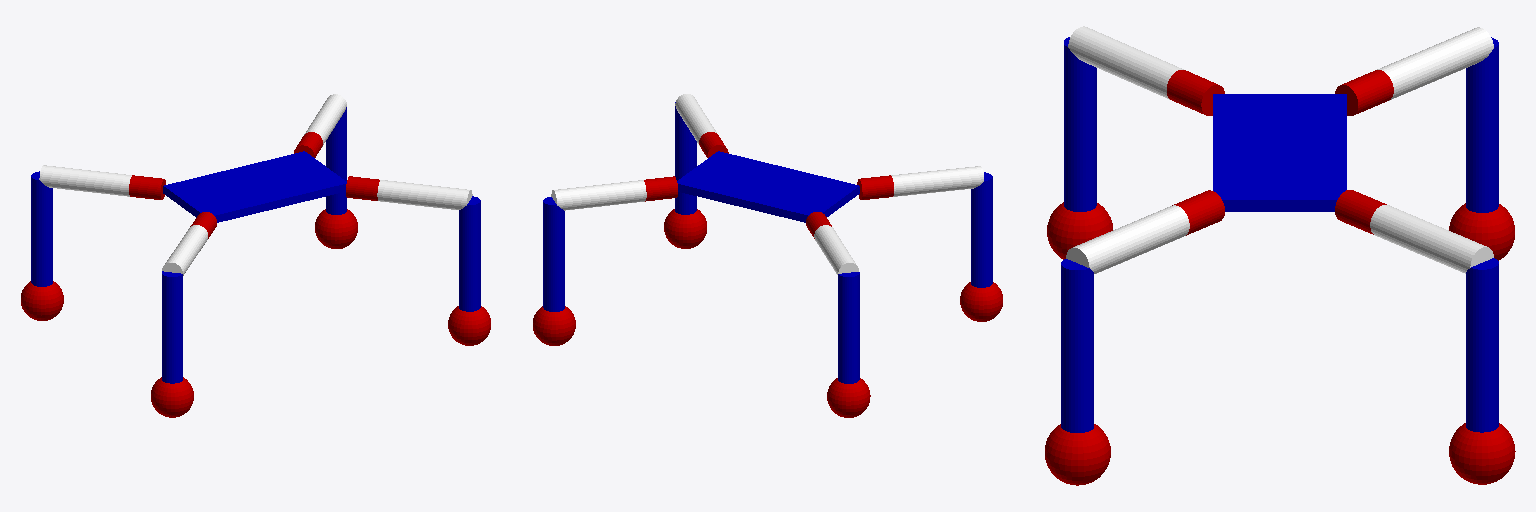
robot.urdf — materials:
<?xml version="1.0"?>
<robot name="materials">

  <material name="blue">
    <color rgba="0 0 0.8 1"/>
  </material>

  <material name="white">
    <color rgba="1 1 1 1"/>
  </material>

  <material name="red">
    <color rgba="0.8 0 0 1"/>
  </material>

  <link name="base_link">
    <collision>
        <geometry>
          <box size="1.5 0.8 0.08"/>
        </geometry>
    </collision>
    <inertial>
      <origin xyz="0 0 0"/>
      <mass value="100.843" />
      <inertia ixx="0.002480" ixy="9.381E-19" ixz="-3.172E-18"
                              iyy="1.060E-02" iyz="1002.754E-09"
                                              izz="1.243E-02" />
    </inertial>
    <visual>
      <geometry>
        <box size="1.5 0.8 0.08"/>
      </geometry>
      <material name="blue"/>
    </visual>
  </link>


#FRONT RIGHT
  <link name="coxa_FR">
 
    <visual>
      <geometry>
        <cylinder length="0.3" radius="0.1"/>
      </geometry>
      <origin rpy="1.57 0 0" xyz="0.0 -0.15 0"/>
      <material name="red"/>
    </visual>
  </link>

  <link name="femur_FR">
    
    <visual>
      <geometry>
         <cylinder length="0.85" radius="0.1"/>
      </geometry>
      <origin xyz="0 0 -0.425"/>
      <material name="white"/>
    </visual>
  </link>

  <link name="tibia_FR">

    <visual>
      <geometry>
       <cylinder length="1.25" radius="0.1"/>
      </geometry>
      <origin xyz="0 0 -0.625"/>
      <material name="blue"/>
    </visual>
  </link>

  <link name="foot_FR">
    <collision>
      <geometry>
        <sphere radius="0.2"/>
      </geometry>
    </collision>
   <mass value="200.843" />
    <visual>
      <geometry>
        <sphere radius="0.2"/>
      </geometry>
      <material name="red"/>
    </visual>
  </link>
  
  <joint name="coxaF_FR" type="revolute">
    <axis xyz="0 0 1"/>
    <limit effort="1000.0" velocity="0.5"/>
    <parent link="base_link"/>
    <child link="coxa_FR"/>
    <origin rpy="0 0 0.785398" xyz="0.75 -0.4 0"/>
  </joint>

  <joint name="femurF_FR" type="revolute">
    <axis xyz="1 0 0"/>
    <limit effort="1000.0" velocity="0.5"/>
    <parent link="coxa_FR"/>
    <child link="femur_FR"/>
    <origin rpy="4.71239 0 0" xyz="0 -0.3 0"/>
  </joint>

  <joint name="tibiaF_FR" type="revolute">
    <axis xyz="1 0 0"/>
    <limit effort="1000.0" velocity="0.5"/>
    <parent link="femur_FR"/>
    <child link="tibia_FR"/>
    <origin rpy="1.5708 0 0" xyz="0 0 -0.85"/>
  </joint>

  <joint name="footF_FR" type="fixed">
    <parent link="tibia_FR"/>
    <child link="foot_FR"/>
    <origin xyz="0 0 -1.25"/>
  </joint>




#FRONT LEFT



  <link name="coxa_FL">

    <visual>
      <geometry>
        <cylinder length="0.3" radius="0.1"/>
      </geometry>
      <origin rpy="1.57 0 0" xyz="0 -0.15 0"/>
      <material name="red"/>
    </visual>
  </link>

  <link name="femur_FL">
  
    <visual>
      <geometry>
        <cylinder length="0.85" radius="0.1"/>
      </geometry>
      <origin xyz="0 0 -0.425"/>
      <material name="white"/>
    </visual>
  </link>

  <link name="tibia_FL">

    <visual>
      <geometry>
        <cylinder length="1.25" radius="0.1"/>
      </geometry>
      <origin xyz="0 0 -0.625"/>
      <material name="blue"/>
    </visual>
  </link>

  <link name="foot_FL">
    <collision>
      <geometry>
        <sphere radius="0.2"/>
      </geometry>
    </collision>
  <mass value="200.843" />
    <visual>
      <geometry>
        <sphere radius="0.2"/>
      </geometry>
      <material name="red"/>
    </visual>
  </link>
  
  <joint name="coxaF_FL" type="revolute">
    <axis xyz="0 0 1"/>
    <limit effort="1000.0" velocity="0.5"/>
    <parent link="base_link"/>
    <child link="coxa_FL"/>
    <origin rpy="0 0 2.35619" xyz="0.74 0.4 0"/>
  </joint>

  <joint name="femurF_FL" type="revolute">
    <axis xyz="1 0 0"/>
    <limit effort="1000.0" velocity="0.5"/>
    <parent link="coxa_FL"/>
    <child link="femur_FL"/>
    <origin rpy="4.71239 0 0" xyz="0 -0.3 0"/>
  </joint>

  <joint name="tibiaF_FL" type="revolute">
    <axis xyz="1 0 0"/>
    <limit effort="1000.0" velocity="0.5"/>
    <parent link="femur_FL"/>
    <child link="tibia_FL"/>
    <origin rpy="1.5708 0 0" xyz="0 0 -0.85"/>
  </joint>

  <joint name="footF_FL" type="fixed">
    <parent link="tibia_FL"/>
    <child link="foot_FL"/>
    <origin xyz="0 0 -1.25"/>
  </joint>







#BACK RIGHT



<link name="coxa_BR">
 
    <visual>
      <geometry>
        <cylinder length="0.3" radius="0.1"/>
      </geometry>
      <origin rpy="1.57 0 0" xyz="0.0 -0.15 0"/>
      <material name="red"/>
    </visual>
  </link>

  <link name="femur_BR">
 
    <visual>
      <geometry>
         <cylinder length="0.85" radius="0.1"/>
      </geometry>
      <origin xyz="0 0 -0.425"/>
      <material name="white"/>
    </visual>
  </link>

  <link name="tibia_BR">

    <visual>
      <geometry>
       <cylinder length="1.25" radius="0.1"/>
      </geometry>
      <origin xyz="0 0 -0.625"/>
      <material name="blue"/>
    </visual>
  </link>

  <link name="foot_BR">
    <collision>
      <geometry>
        <sphere radius="0.2"/>
      </geometry>
    </collision>
   <mass value="200.843" />
    <visual>
      <geometry>
        <sphere radius="0.2"/>
      </geometry>
      <material name="red"/>
    </visual>
  </link>
  
  <joint name="coxaF_BR" type="revolute">
    <axis xyz="0 0 1"/>
    <limit effort="1000.0" velocity="0.5"/>
    <parent link="base_link"/>
    <child link="coxa_BR"/>
    <origin rpy="0 0 3.92699" xyz="-0.75 0.4 0"/>
  </joint>

  <joint name="femurF_BR" type="revolute">
    <axis xyz="1 0 0"/>
    <limit effort="1000.0" velocity="0.5"/>
    <parent link="coxa_BR"/>
    <child link="femur_BR"/>
    <origin rpy="4.71239 0 0" xyz="0 -0.3 0"/>
  </joint>

  <joint name="tibiaF_BR" type="revolute">
    <axis xyz="1 0 0"/>
    <limit effort="1000.0" velocity="0.5"/>
    <parent link="femur_BR"/>
    <child link="tibia_BR"/>
    <origin rpy="1.5708 0 0" xyz="0 0 -0.85"/>
  </joint>

  <joint name="footF_BR" type="fixed">
    <parent link="tibia_BR"/>
    <child link="foot_BR"/>
    <origin xyz="0 0 -1.25"/>
  </joint>




#BACK LEFT



<link name="coxa_BL">
 
    <visual>
      <geometry>
        <cylinder length="0.3" radius="0.1"/>
      </geometry>
      <origin rpy="1.57 0 0" xyz="0.0 -0.15 0"/>
      <material name="red"/>
    </visual>
  </link>

  <link name="femur_BL">
  
    <visual>
      <geometry>
         <cylinder length="0.85" radius="0.1"/>
      </geometry>
      <origin xyz="0 0 -0.425"/>
      <material name="white"/>
    </visual>
  </link>

  <link name="tibia_BL">
  
    <visual>
      <geometry>
       <cylinder length="1.25" radius="0.1"/>
      </geometry>
      <origin xyz="0 0 -0.625"/>
      <material name="blue"/>
    </visual>
  </link>

  <link name="foot_BL">
    <collision>
      <geometry>
        <sphere radius="0.2"/>
      </geometry>
    </collision>
   <mass value="200.843" />
    <visual>
      <geometry>
        <sphere radius="0.2"/>
      </geometry>
      <material name="red"/>
    </visual>
  </link>
  
  <joint name="coxaF_BL" type="revolute">
    <axis xyz="0 0 1"/>
    <limit effort="1000.0" velocity="0.5"/>
    <parent link="base_link"/>
    <child link="coxa_BL"/>
    <origin rpy="0 0 5.48033" xyz="-0.75 -0.4 0"/>
  </joint>

  <joint name="femurF_BL" type="revolute">
    <axis xyz="1 0 0"/>
    <limit effort="1000.0" velocity="0.5"/>
    <parent link="coxa_BL"/>
    <child link="femur_BL"/>
    <origin rpy="4.71239 0 0" xyz="0 -0.3 0"/>
  </joint>

  <joint name="tibiaF_BL" type="revolute">
    <axis xyz="1 0 0"/>
    <limit effort="1000.0" velocity="0.5"/>
    <parent link="femur_BL"/>
    <child link="tibia_BL"/>
    <origin rpy="1.5708 0 0" xyz="0 0 -0.85"/>
  </joint>

  <joint name="footF_BL" type="fixed">
    <parent link="tibia_BL"/>
    <child link="foot_BL"/>
    <origin xyz="0 0 -1.25"/>
  </joint>

</robot>

--- Render facts (derived) ---
Views: 3 orthographic renders of the robot side by side, from view 1: azimuth 30°, elevation 25°; view 2: azimuth 150°, elevation 25°; view 3: azimuth 270°, elevation 25°.
Model materials with 17 links and 16 joints (12 revolute, 4 fixed), rooted at base_link, posed all joints at 0.
Visible links, largest first — view 1: base_link, tibia_FR, tibia_BR, tibia_BL, femur_FR, femur_BR, tibia_FL, foot_BL, foot_FR, foot_FL, foot_BR, femur_BL (+3 smaller); view 2: base_link, tibia_BR, tibia_FL, tibia_BL, femur_FL, femur_BL, tibia_FR, foot_FR, foot_BR, foot_BL, foot_FL, femur_BR (+3 smaller); view 3: base_link, tibia_FL, tibia_FR, tibia_BR, tibia_BL, femur_FR, femur_FL, femur_BR, femur_BL, foot_FL, foot_FR, foot_BL (+5 smaller).
Boxes of the visible links, left/top/right/bottom form: base_link: left=163, top=151, right=346, bottom=222; tibia_FR: left=459, top=196, right=480, bottom=311; tibia_BR: left=31, top=171, right=52, bottom=286; tibia_BL: left=162, top=271, right=182, bottom=383; femur_FR: left=377, top=180, right=472, bottom=209; femur_BR: left=39, top=165, right=131, bottom=196; tibia_FL: left=326, top=107, right=346, bottom=214; foot_BL: left=151, top=377, right=193, bottom=417; foot_FR: left=448, top=306, right=490, bottom=345; foot_FL: left=315, top=209, right=357, bottom=248; foot_BR: left=21, top=281, right=63, bottom=320; femur_BL: left=162, top=225, right=207, bottom=275; base_link: left=677, top=151, right=859, bottom=222; tibia_BR: left=838, top=272, right=859, bottom=383; tibia_FL: left=543, top=197, right=564, bottom=311; tibia_BL: left=971, top=172, right=992, bottom=287; femur_FL: left=551, top=180, right=646, bottom=210; femur_BL: left=891, top=166, right=983, bottom=196; tibia_FR: left=675, top=102, right=696, bottom=214; foot_FR: left=664, top=209, right=706, bottom=248; foot_BR: left=827, top=378, right=870, bottom=417; foot_BL: left=960, top=282, right=1002, bottom=321; foot_FL: left=533, top=306, right=575, bottom=345; femur_BR: left=814, top=225, right=858, bottom=274; base_link: left=1213, top=94, right=1346, bottom=211; tibia_FL: left=1466, top=258, right=1498, bottom=432; tibia_FR: left=1061, top=259, right=1093, bottom=432; tibia_BR: left=1466, top=37, right=1498, bottom=212; tibia_BL: left=1064, top=37, right=1096, bottom=211; femur_FR: left=1066, top=205, right=1189, bottom=273; femur_FL: left=1370, top=205, right=1493, bottom=273; femur_BR: left=1377, top=27, right=1493, bottom=100; femur_BL: left=1068, top=26, right=1183, bottom=99; foot_FL: left=1449, top=423, right=1515, bottom=484; foot_FR: left=1045, top=424, right=1110, bottom=485; foot_BL: left=1047, top=202, right=1112, bottom=259.
Size in the robot's own frame: 3.54 by 2.83 by 1.55 metres.
Geometry: primitives only (box / cylinder / sphere), no mesh files.